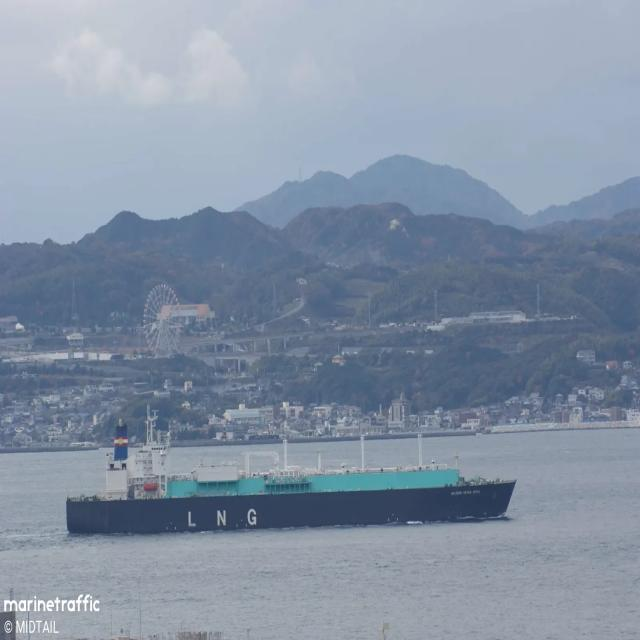Tanker: (66, 421, 515, 534)
